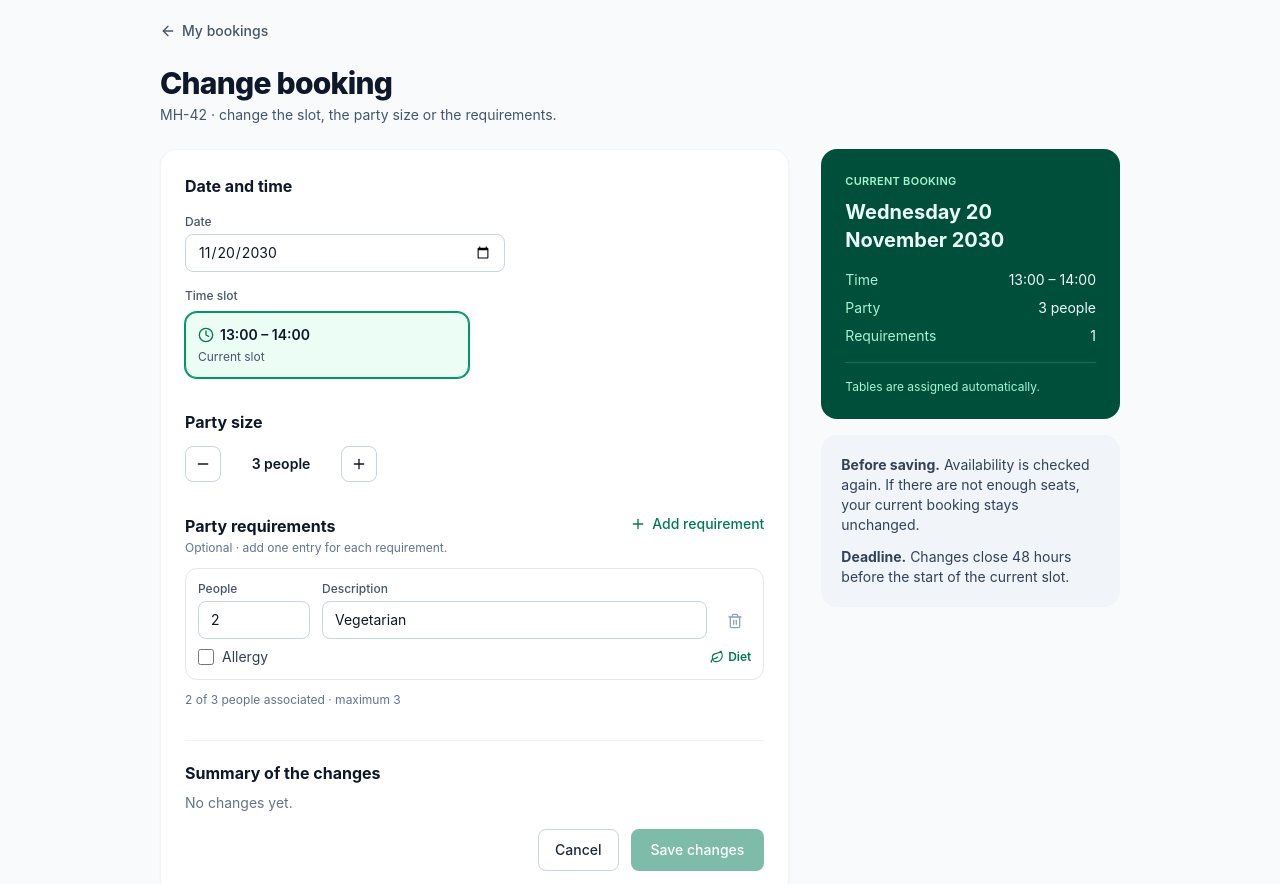
Test: MH-05 party requirements integration › loads existing requirement subsets and PATCHes only the updated MH-05 field
Expected: the field showing "Vegetarian" is shown, [322, 601, 707, 639]
Expected: the text "2 of 3 people associated · maximum 3" is shown, [185, 692, 401, 707]
Click the button "Add requirement".
click(697, 524)  # box [630, 514, 764, 534]
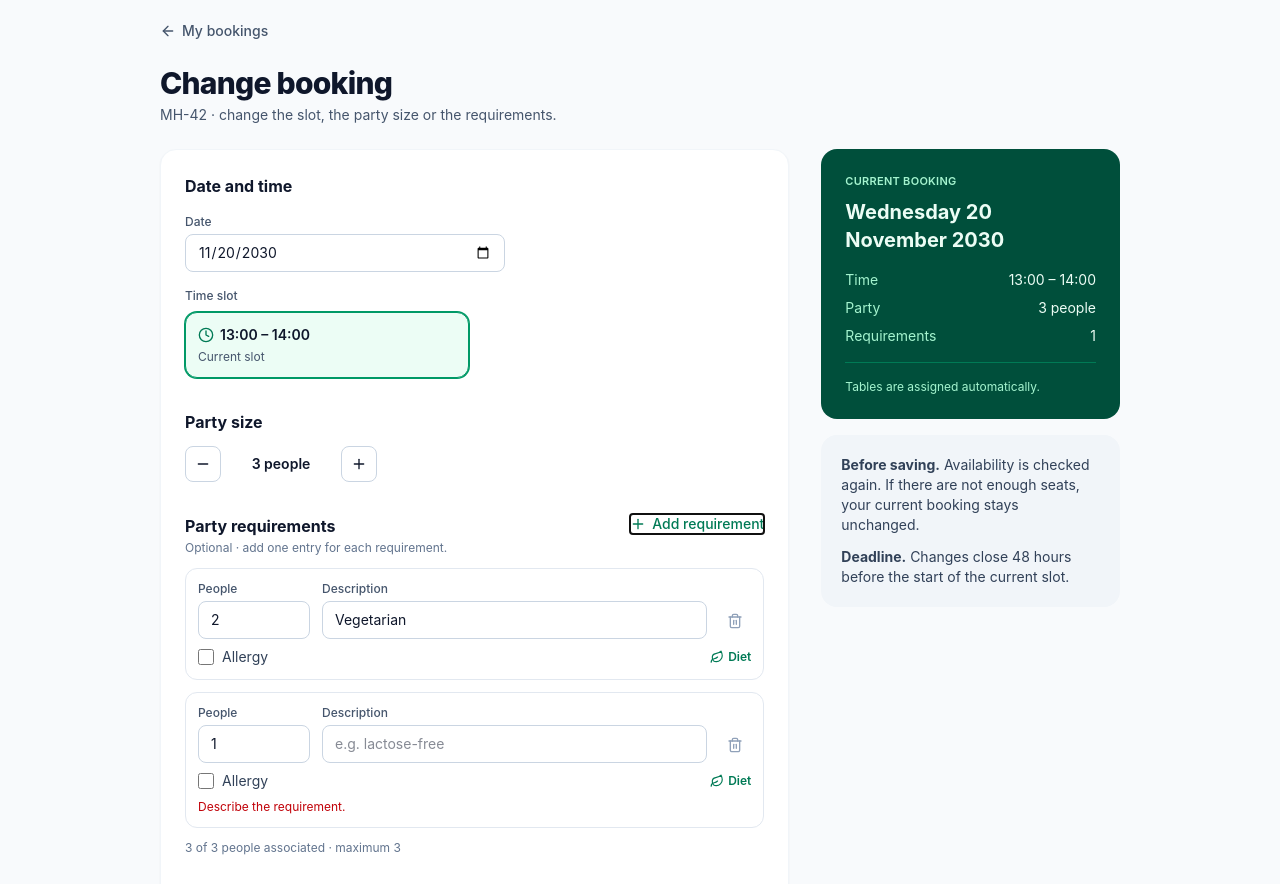
Type "Shellfish allergy" into the field named "Description for requirement 2".
click(515, 744); type("Shellfish allergy")  # box [322, 725, 707, 763]
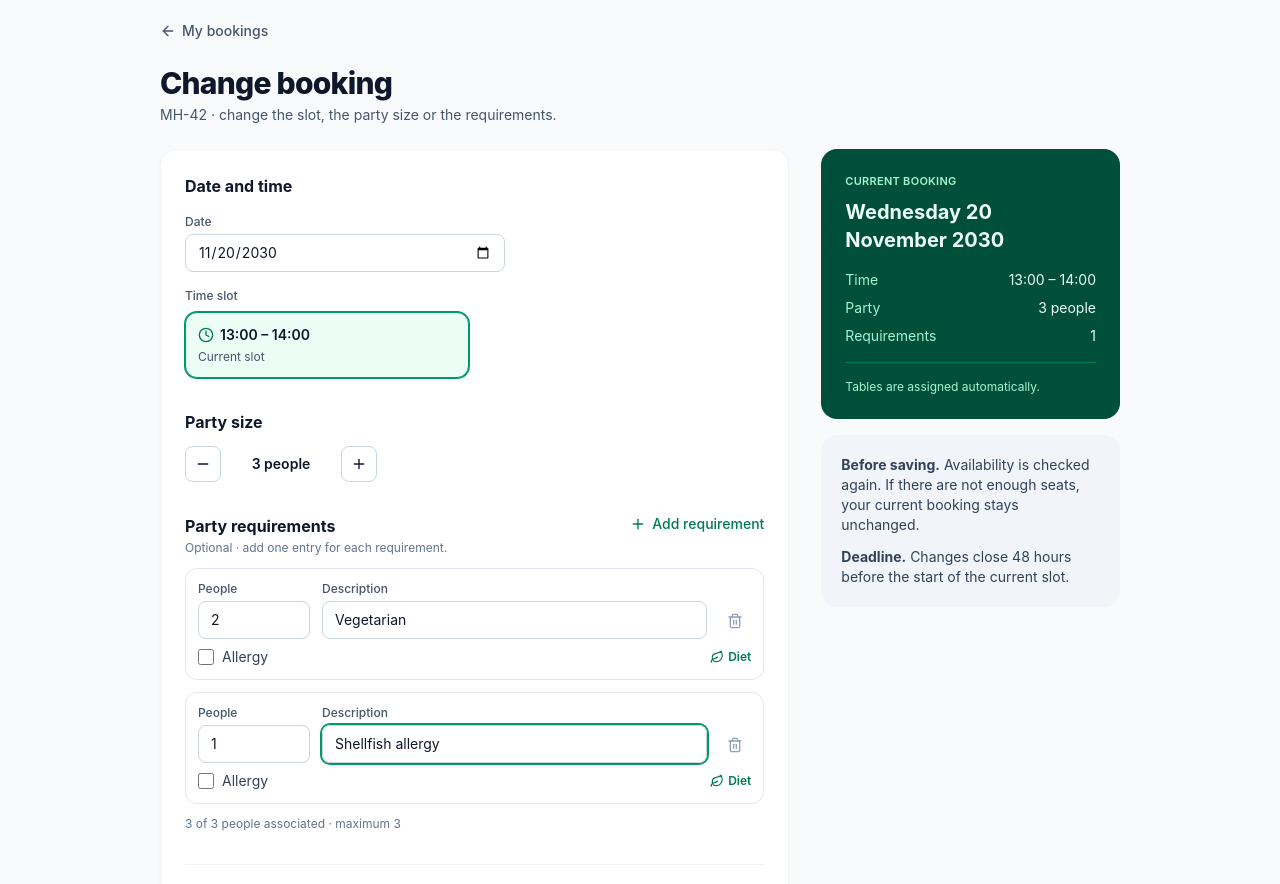
Click the 2nd checkbox labelled "Allergy".
click(206, 781)  # box [198, 773, 214, 789]
(page scrolled)
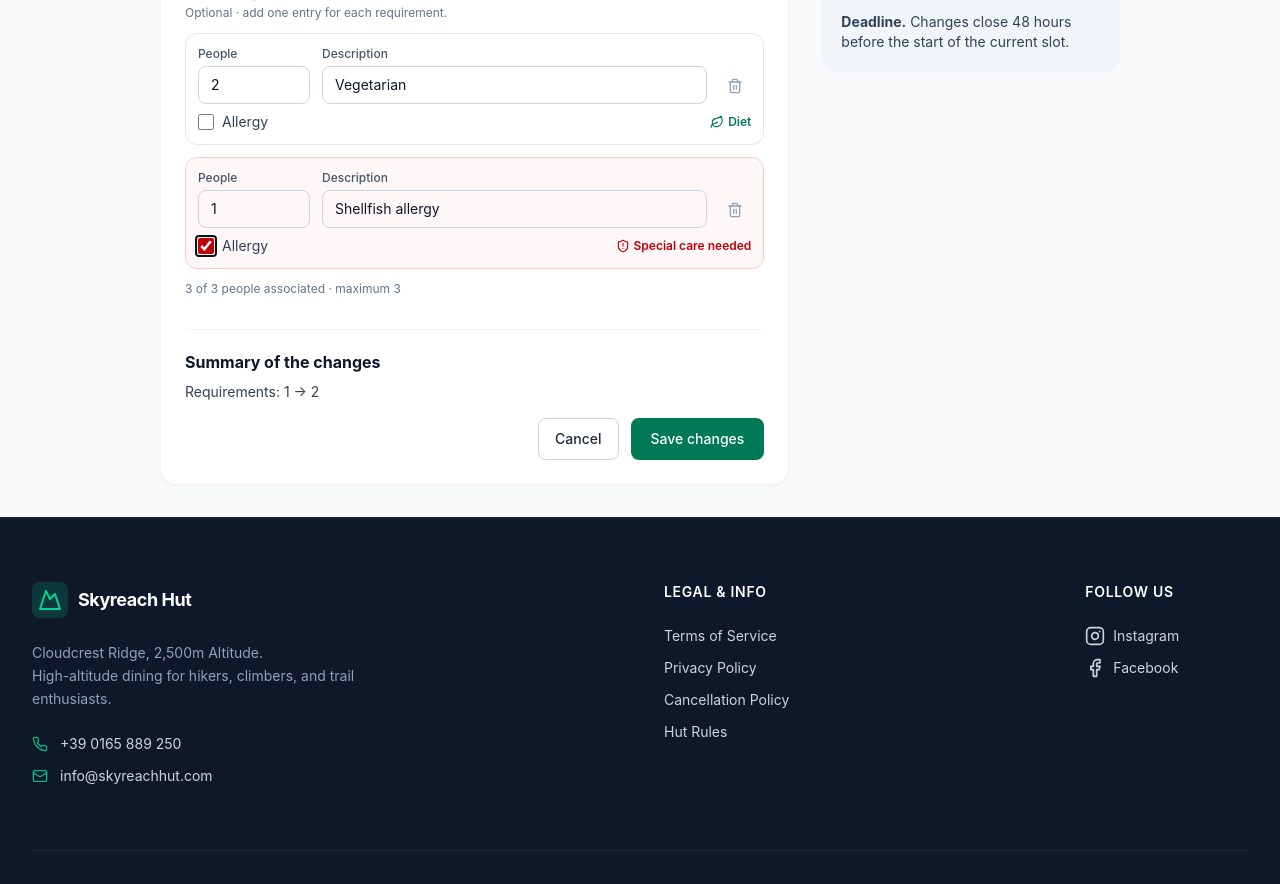
Click the button "Save changes".
click(697, 439)  # box [630, 418, 764, 460]
(page scrolled)
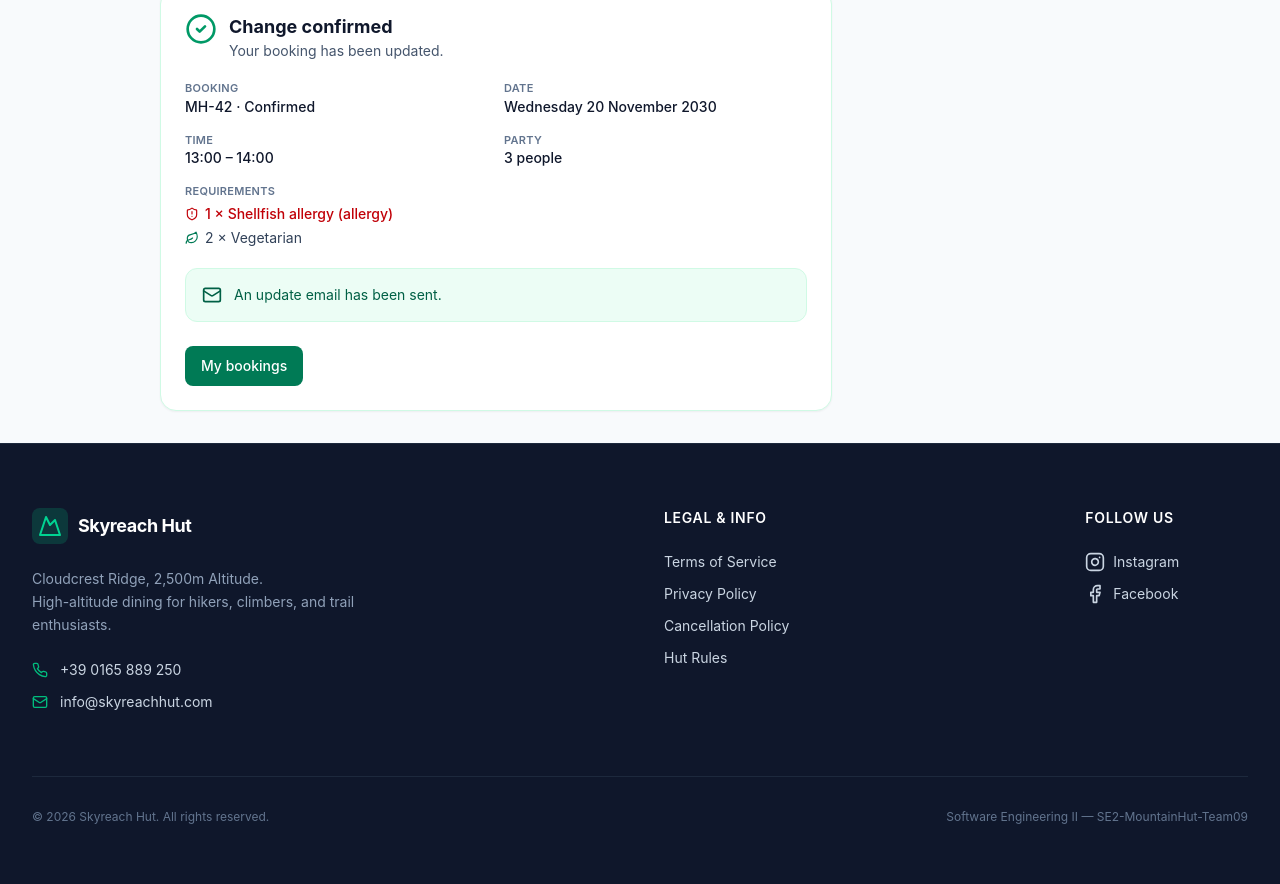
Expected: the heading "Change confirmed" is shown, [229, 16, 392, 37]
Expected: the text "2 × Vegetarian" is shown, [205, 228, 302, 248]
Expected: the text "1 × Shellfish allergy (allergy)" is shown, [205, 204, 393, 224]
